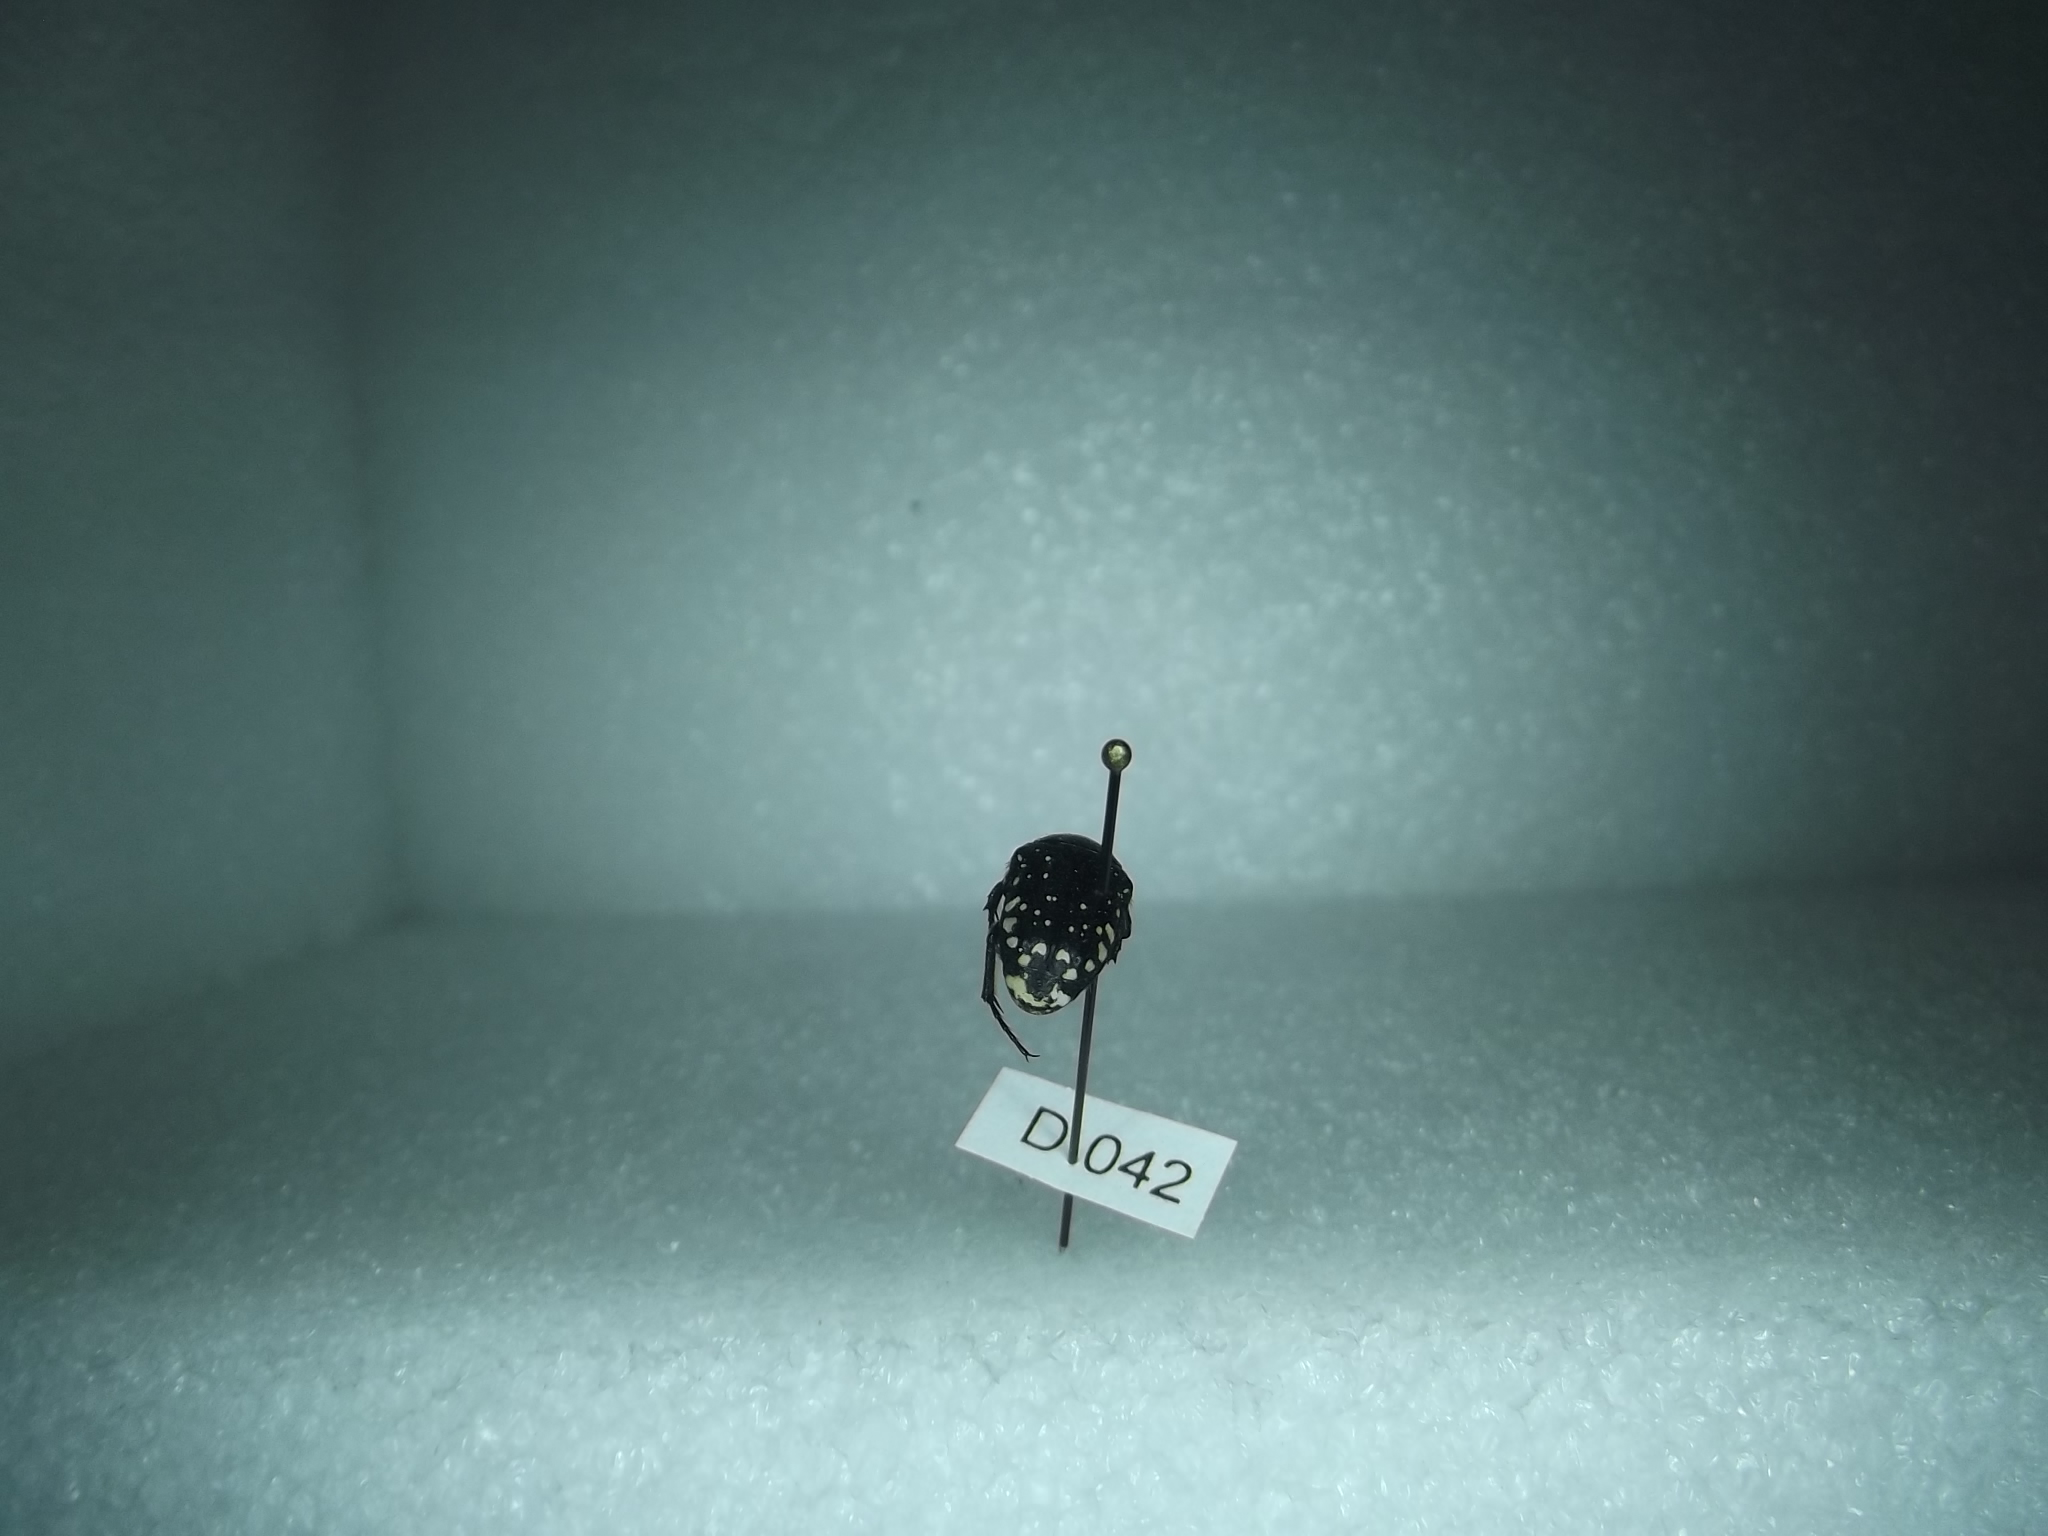Oxythyrea_cinctella: (977, 820, 1135, 1075)
